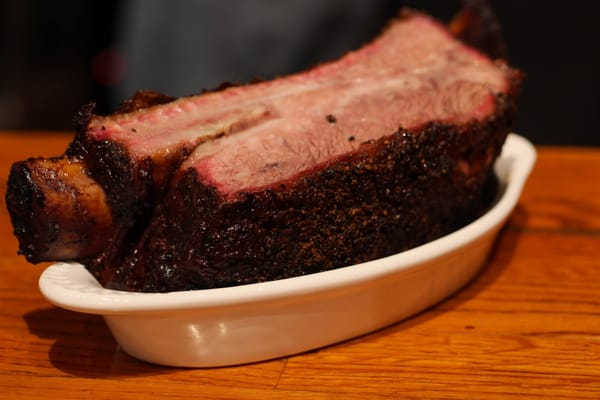sushi: (3, 116, 538, 372)
